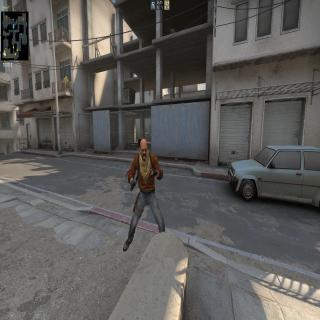T-Head: (139, 138, 149, 161)
